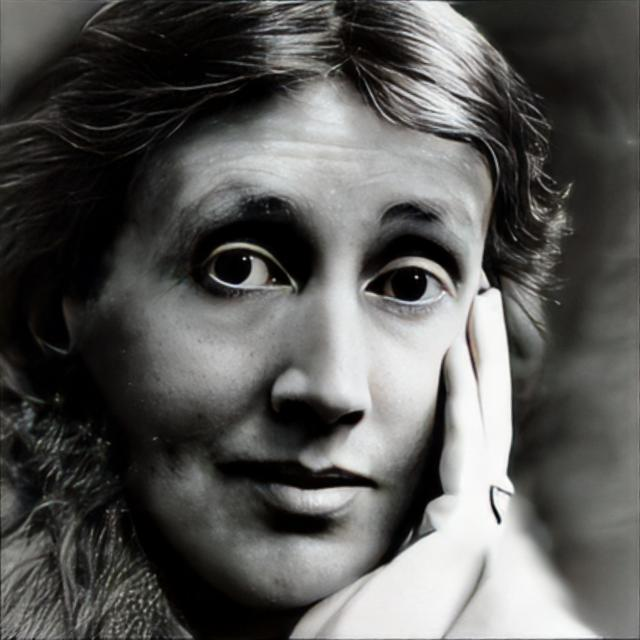content: (81, 83, 495, 612)
